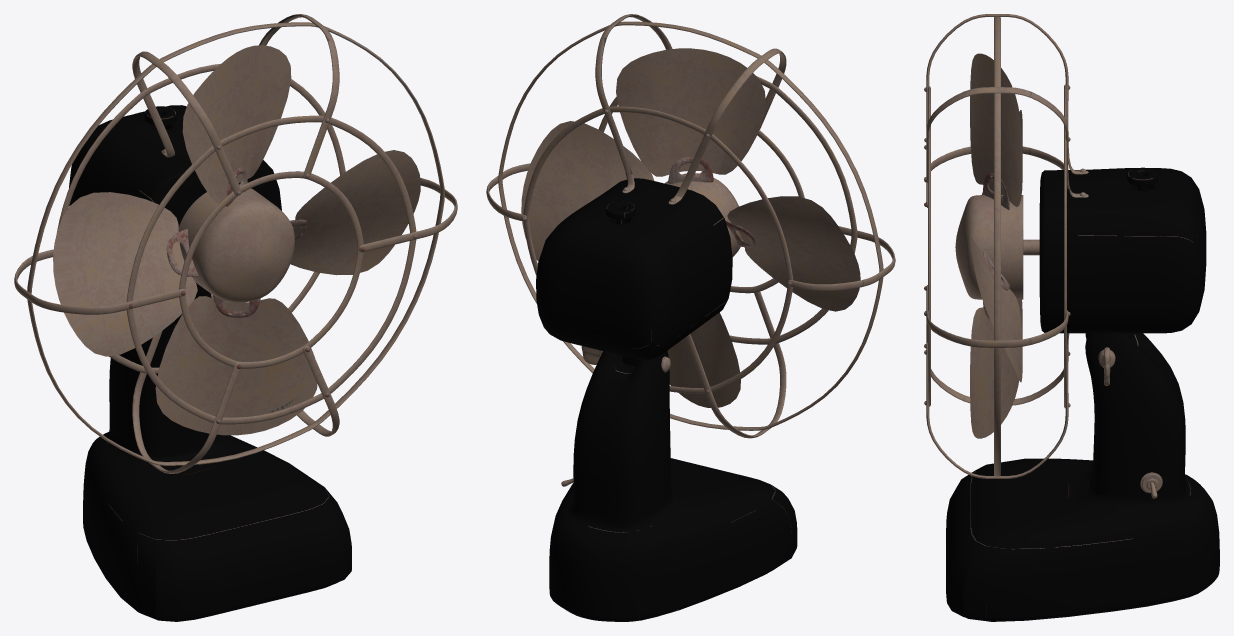
Rendered from OldFan.fbx.
3 renders of one model, left to right at view 1: azimuth 30°, elevation 25°; view 2: azimuth 150°, elevation 25°; view 3: azimuth 270°, elevation 25°, orthographic. The views are drawn at different scales.
Parts seen in each view (by area): view 1: OldFan.002; view 2: OldFan.002; view 3: OldFan.002.
Boxes of the visible parts, x1=… form: OldFan.002: x1=14, y1=14, x2=457, y2=621; OldFan.002: x1=486, y1=14, x2=895, y2=621; OldFan.002: x1=924, y1=14, x2=1219, y2=621.
Size of the model in its own units: 139 by 176 by 88.14.
Materials: 1 (1 with a texture image).
